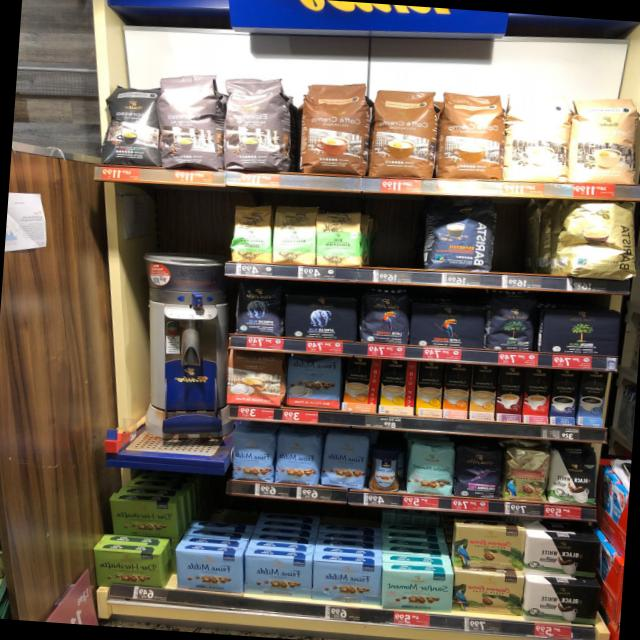AB Bohne: (230, 276, 286, 338)
AB Gemahlen: (280, 290, 360, 344)
Athiopien Bohne: (225, 202, 272, 264)
Athiopien Gemahlen: (312, 204, 366, 270), (269, 200, 318, 268)
BM Bohne: (482, 289, 540, 352)
BM Gemahlen: (536, 307, 625, 359)
BW Bohne: (546, 443, 600, 508)
BW Gemahlen: (520, 580, 602, 626), (521, 534, 602, 580)
Barista CB: (545, 195, 640, 282)
Barista Espresso: (419, 192, 498, 274)
C Fino Bohne: (452, 441, 504, 500)
CC Mild: (565, 90, 640, 189), (500, 88, 570, 186)
CC Vollmundig: (222, 350, 284, 408)
CC Vollmundig 36 Pads: (296, 78, 373, 178), (433, 86, 506, 183), (366, 84, 438, 182)
Colombia BB Bohne: (500, 442, 552, 503)
Colombia BB Gemahlen: (450, 523, 525, 571), (452, 570, 524, 616)
Empty Shelf: (362, 192, 423, 270), (492, 197, 551, 276)
Espresso Aromatisch: (220, 68, 296, 175), (153, 66, 224, 173)
Espresso Kraftig: (95, 75, 162, 169)
FM 36 Pads: (282, 352, 344, 410)
FM Bohne: (318, 430, 370, 490), (272, 428, 322, 486), (228, 428, 276, 482)
FM Gemahlen: (171, 549, 244, 593), (309, 560, 382, 604), (242, 553, 310, 598)
FM Instant: (366, 444, 403, 493)
Herzhatfe Mundig: (103, 495, 179, 540), (89, 548, 161, 591)
LG Bohne: (357, 285, 410, 347)
LG Gemahlen: (406, 298, 487, 352)
SM Bohne: (402, 436, 456, 496)
SM Gemahlen: (380, 568, 454, 614)
Simo CCMild: (378, 357, 416, 415)
Simo CCMild bigpack: (414, 360, 444, 418)
Simo CCVollmundig: (340, 356, 380, 414)
Simo CCVollmundig bigpack: (442, 362, 472, 419)
Simo Decaff: (468, 364, 498, 422)
Simo Es Brazil: (522, 368, 552, 426)
Simo Es Caramel: (494, 366, 526, 424)
Simo Es Kraft: (548, 369, 580, 425)
Simo Es Vanilla: (576, 369, 608, 426)
